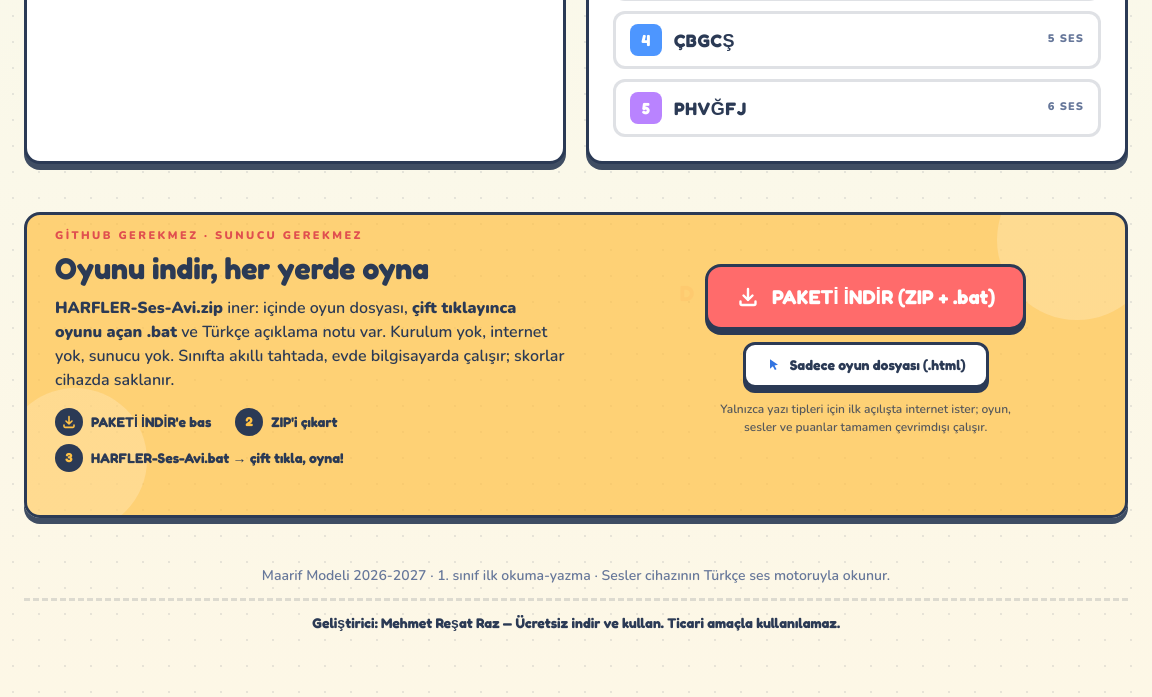
Test case: indirme › Sadece oyun dosyası düğmesi .html indirir
The image size is (1152, 697).
(page scrolled)
Click the button "Sadece oyun dosyası (.html)" at (866, 364), box [743,342,989,388]
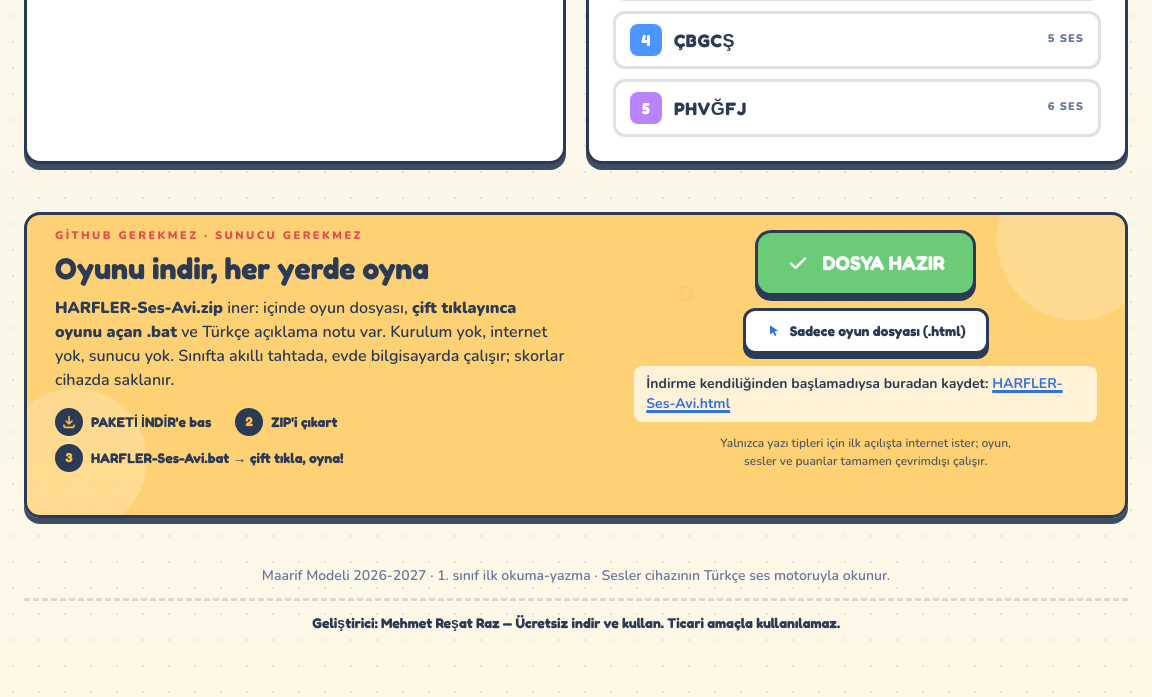
Now the link "HARFLER-Ses-Avi.html" is shown, box [646,374,1063,412]
